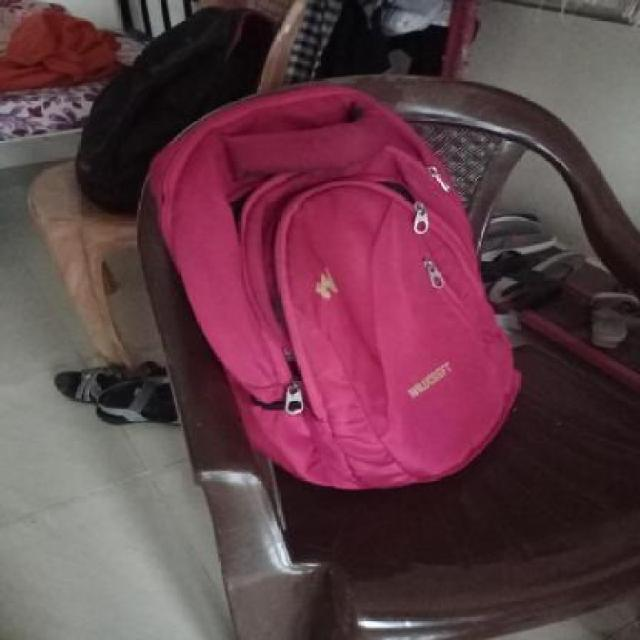backpack: (142, 80, 528, 495)
